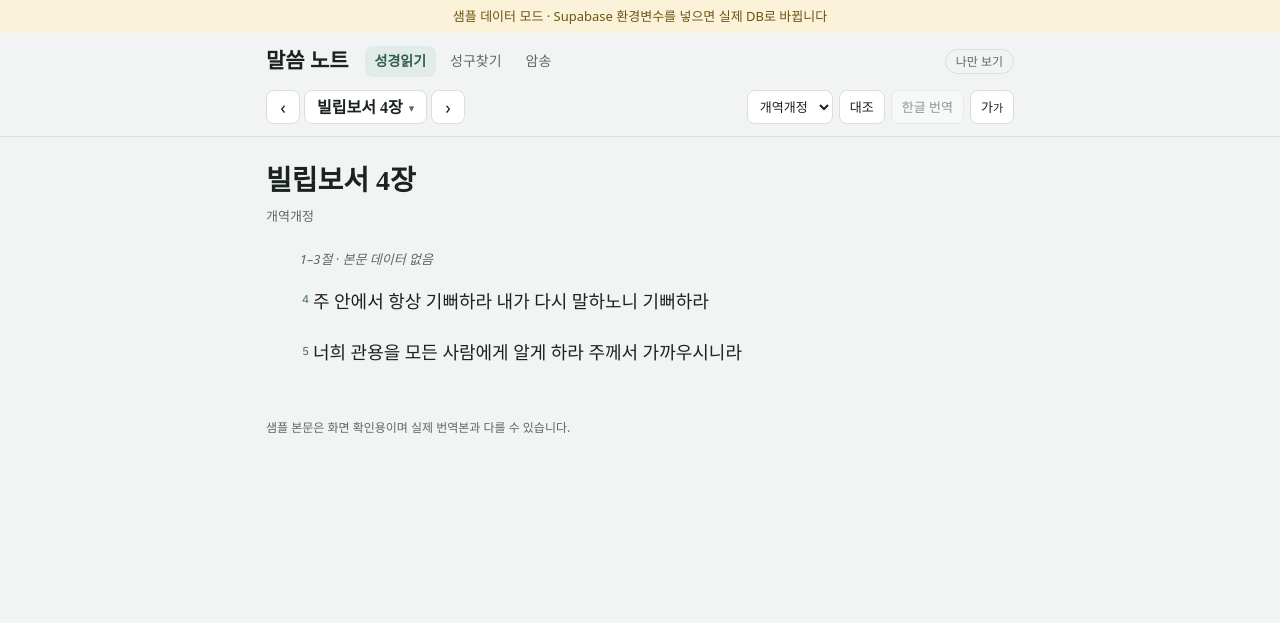
it: app (sample mode) › shows MSG's combined verses as a range in parallel view
Expected: the heading "빌립보서 4장" is shown, [266, 165, 416, 196]
Click the button "대조": (862, 107) [839, 90, 885, 124]
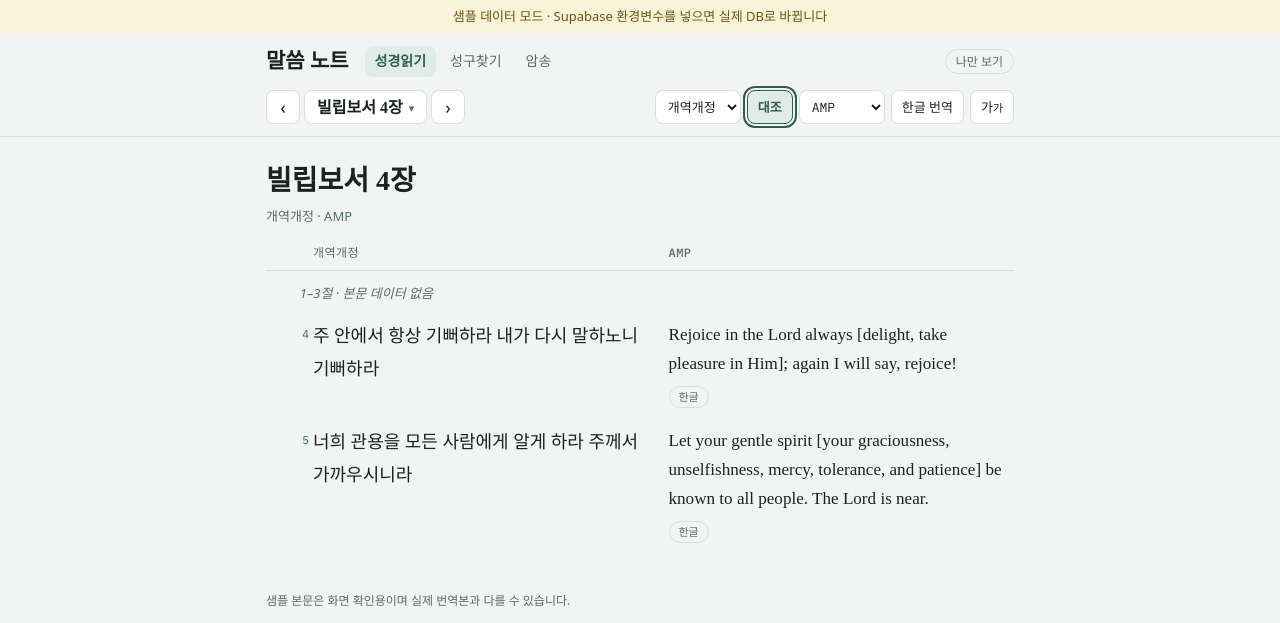
Select "MSG" in the dropdown named "대조 번역본": (842, 107) [799, 90, 885, 124]
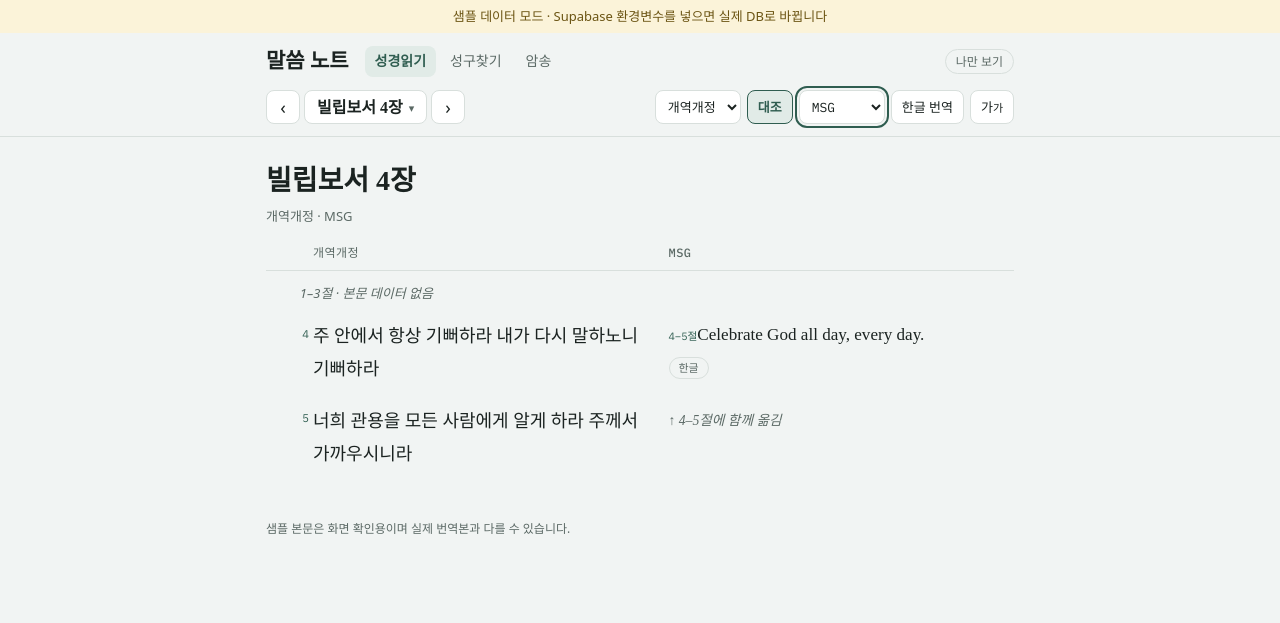
Expected: the text "↑ 4–5절에 함께 옮김" is shown, [668, 413, 782, 428]
Expected: the text "4–5절" is shown, [668, 327, 697, 345]
